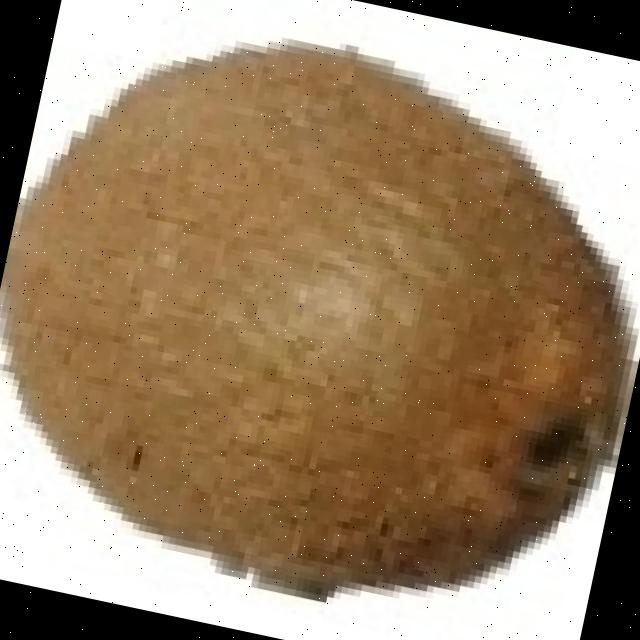kiwi: (0, 36, 620, 581)
